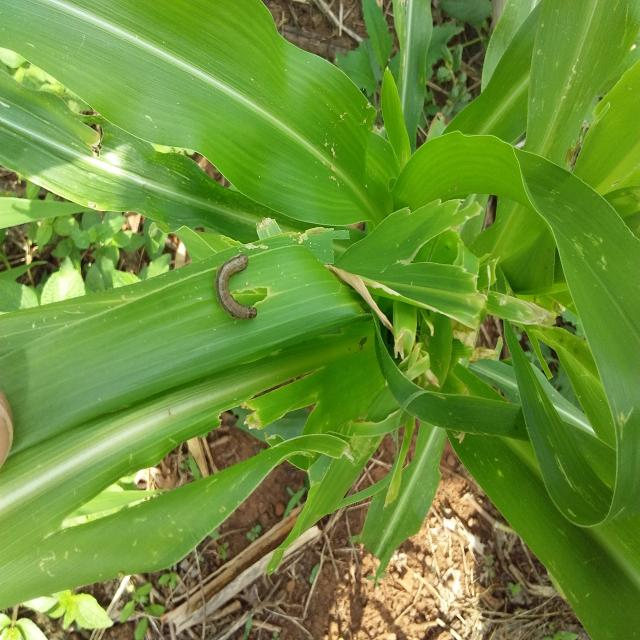yellow-stem-borer-larva: (202, 241, 271, 328)
